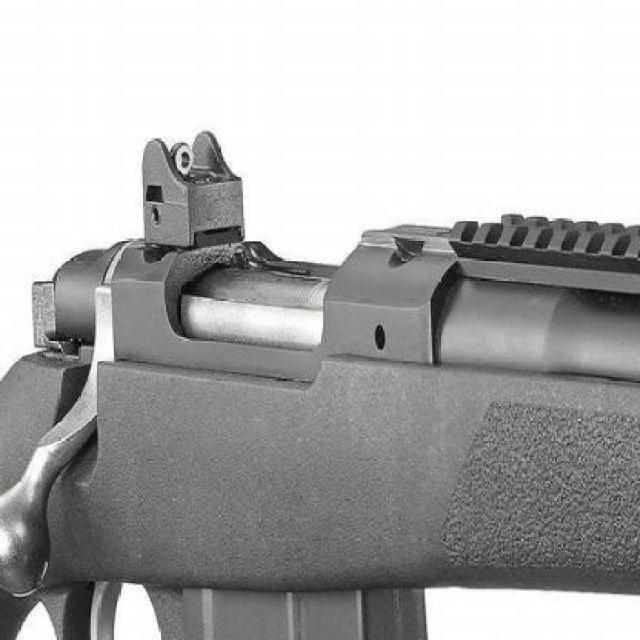weapon: (3, 131, 640, 640)
